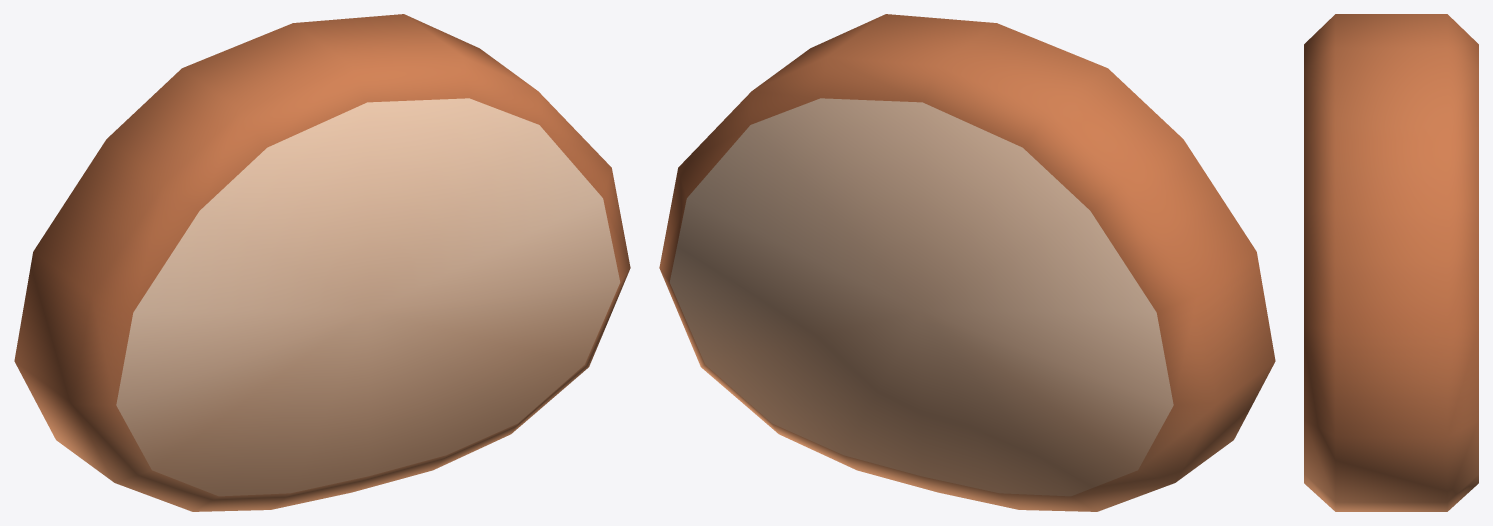
The model's file is baguette_slice.obj.
3 renders of one model, left to right at view 1: azimuth 30°, elevation 25°; view 2: azimuth 150°, elevation 25°; view 3: azimuth 270°, elevation 25°, orthographic. The views are drawn at different scales.
Parts seen in each view (by area): view 1: baguette_slice; view 2: baguette_slice; view 3: baguette_slice.
Boxes of the visible parts, x1,y1,x2,y2 form: baguette_slice: (14,14,630,511); baguette_slice: (659,14,1275,511); baguette_slice: (1304,14,1478,511).
Size of the model in its own units: 0.3706 by 0.271 by 0.1054.
Materials: 1 (1 with a texture image).
